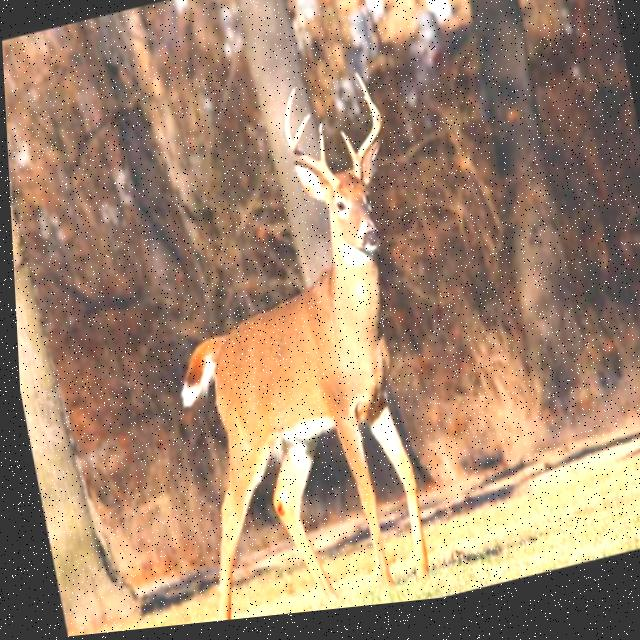L-F: (351, 102, 381, 188)
L-G1: (338, 137, 354, 170)
R-F: (289, 118, 338, 198)
R-G1: (317, 128, 325, 174)
R-G2: (283, 93, 295, 153)
